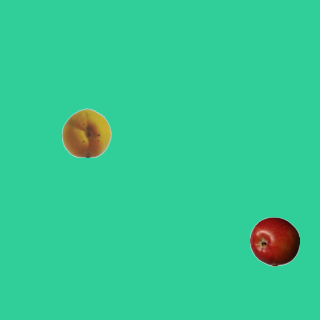Apple Braeburn: (249, 216, 299, 266)
Peach 2: (61, 107, 111, 157)
